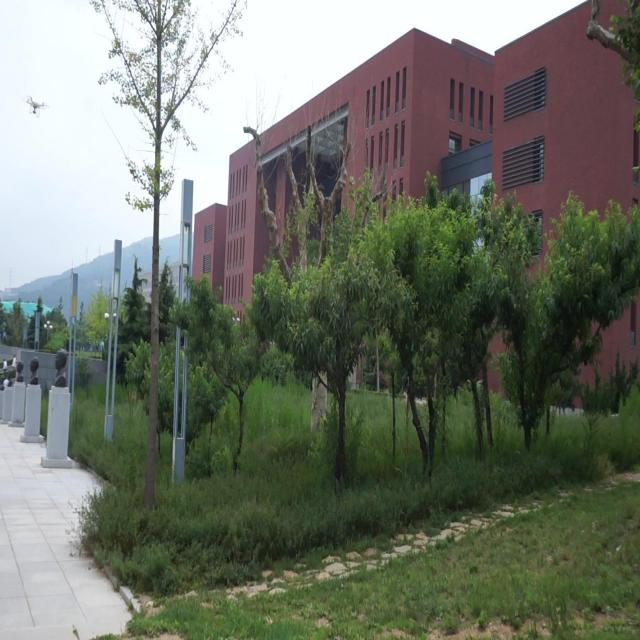UAV: (22, 95, 49, 117)
